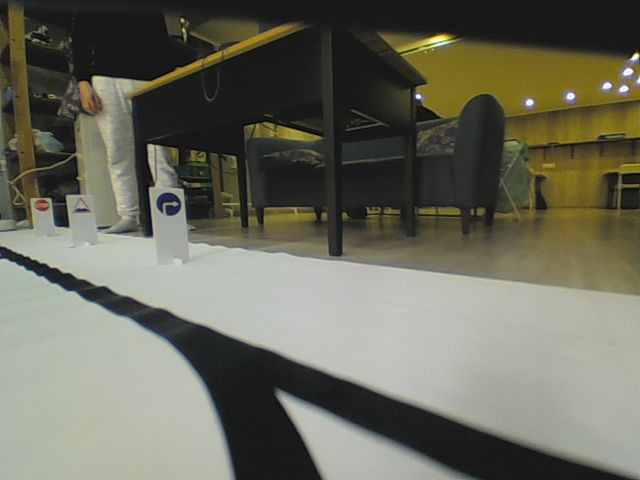Nerov: (72, 198, 91, 214)
Right: (154, 192, 181, 218)
Stop: (32, 199, 51, 212)
